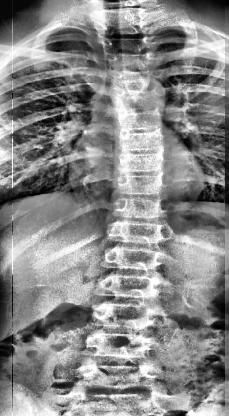Vertebrae: (78, 359, 162, 395), (100, 238, 168, 274), (84, 330, 156, 364), (92, 298, 168, 330), (97, 268, 169, 300), (102, 216, 176, 246), (110, 192, 172, 222), (115, 146, 173, 176), (110, 104, 166, 134), (106, 84, 164, 112), (113, 172, 175, 198), (104, 66, 160, 94), (96, 31, 159, 55), (114, 127, 172, 153), (99, 48, 159, 72)
